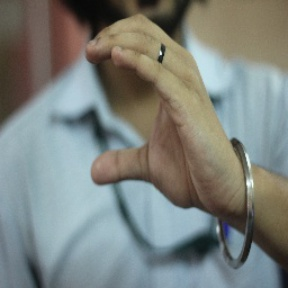C: (73, 16, 210, 197)
